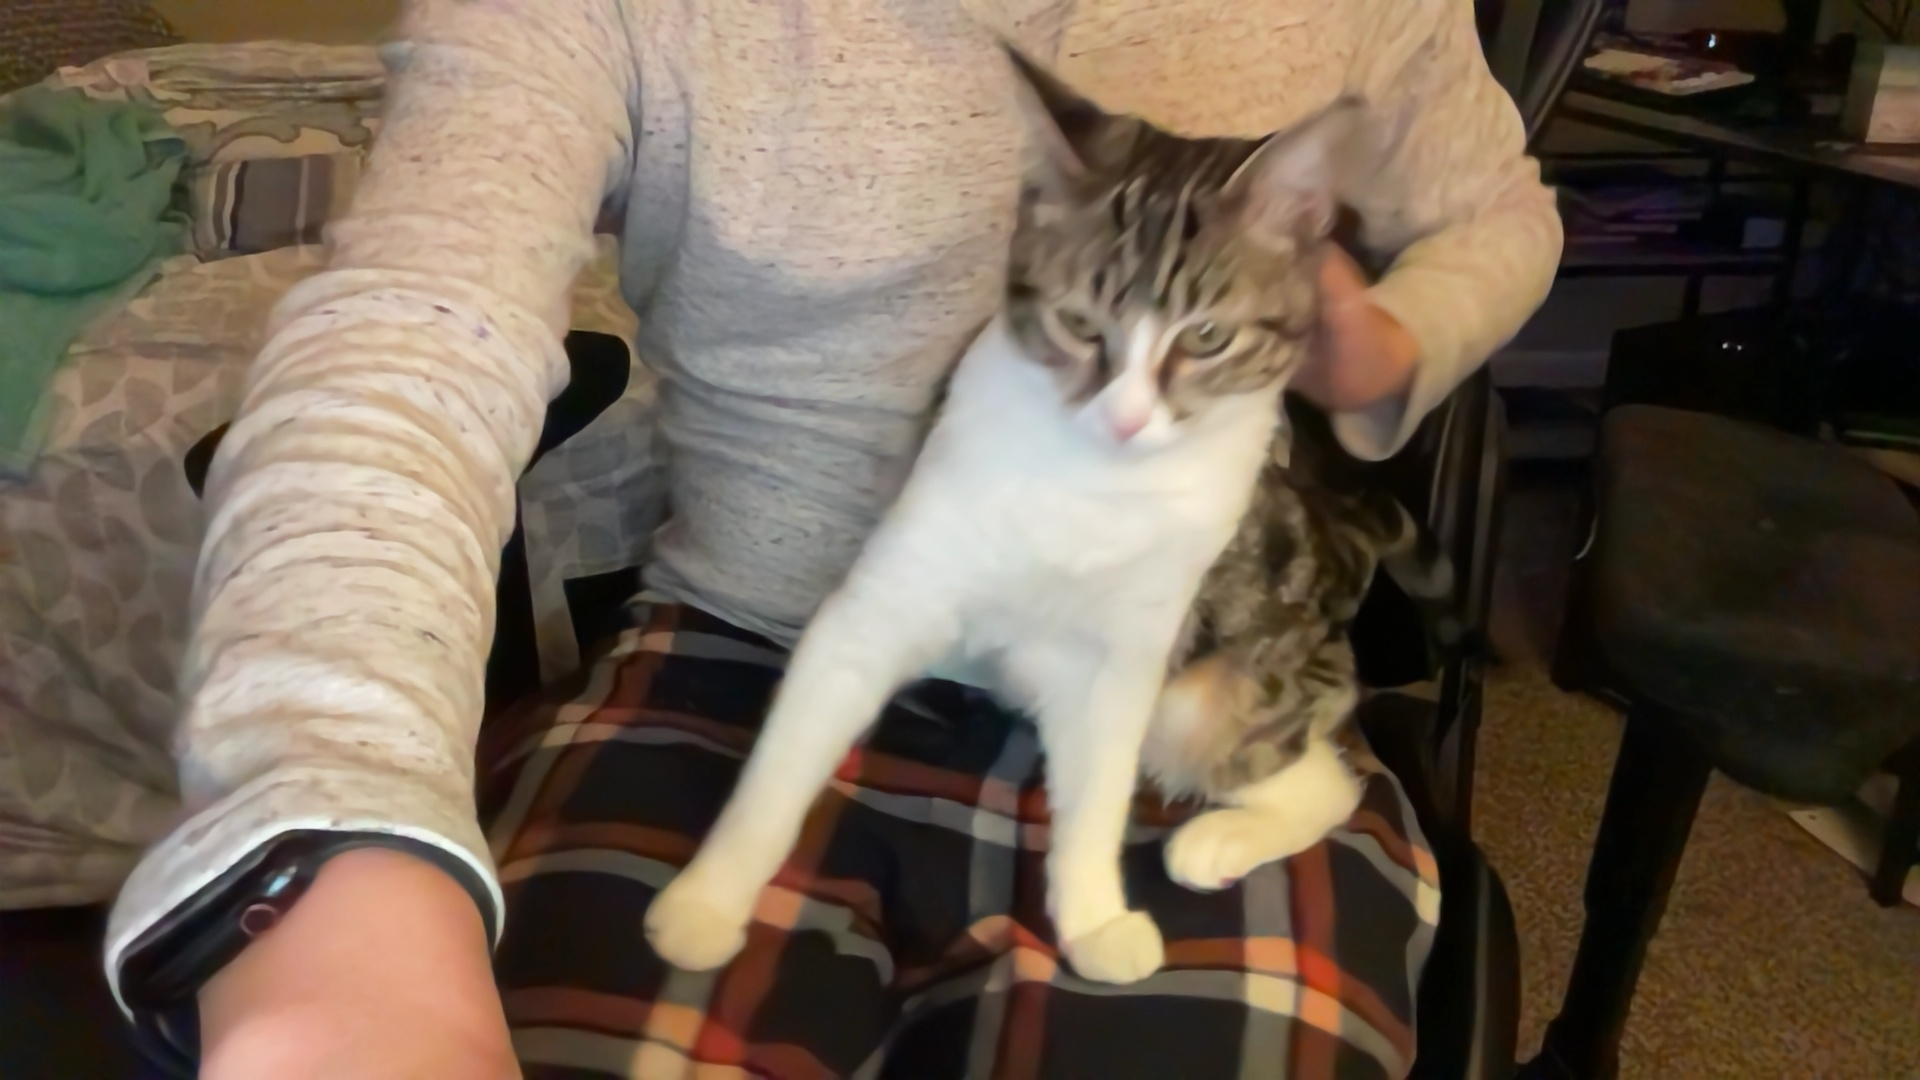cat: (645, 57, 1389, 989)
